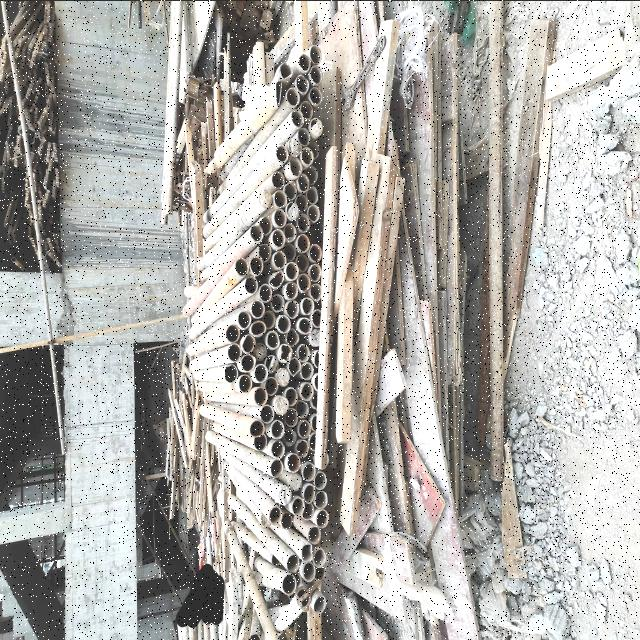pipe: (296, 586, 310, 609), (240, 334, 256, 354), (234, 256, 250, 276), (268, 268, 284, 288), (282, 572, 296, 594), (248, 256, 264, 275), (258, 188, 272, 209), (310, 116, 324, 137), (248, 224, 264, 242), (253, 363, 268, 382), (312, 594, 326, 614), (302, 562, 316, 582), (278, 486, 292, 506), (288, 472, 302, 492), (271, 439, 285, 459), (275, 395, 289, 415), (278, 342, 292, 362), (296, 272, 310, 292), (285, 260, 299, 280), (285, 201, 299, 221), (296, 212, 310, 232), (284, 180, 298, 200), (286, 86, 300, 106), (296, 74, 310, 94), (302, 462, 316, 481), (286, 453, 300, 472), (254, 387, 268, 406), (284, 408, 298, 427), (265, 354, 279, 373), (288, 356, 302, 375), (266, 330, 280, 349), (272, 250, 286, 269), (290, 109, 304, 128), (276, 367, 289, 387), (296, 399, 309, 419), (239, 374, 252, 394), (250, 320, 266, 336), (268, 506, 282, 524), (291, 497, 305, 515), (250, 419, 264, 437), (270, 420, 284, 438), (260, 404, 274, 422), (228, 343, 242, 361), (226, 324, 240, 342), (241, 353, 255, 371), (253, 342, 267, 360), (251, 300, 265, 318), (262, 310, 276, 328), (277, 314, 291, 332), (298, 316, 312, 334), (258, 284, 272, 302), (244, 275, 258, 293), (295, 254, 309, 272), (308, 263, 322, 281), (308, 244, 322, 262), (296, 233, 310, 251), (272, 230, 286, 248), (258, 216, 272, 234), (270, 170, 284, 188), (275, 144, 289, 162), (288, 138, 302, 156), (315, 489, 328, 508), (296, 439, 309, 458), (265, 376, 278, 395), (310, 65, 323, 84), (288, 553, 300, 573), (314, 548, 326, 568), (302, 542, 314, 562), (316, 508, 328, 528), (304, 483, 316, 503), (284, 427, 296, 447), (299, 418, 311, 438), (286, 386, 298, 406), (225, 362, 237, 382), (298, 342, 310, 362), (272, 292, 284, 312), (285, 280, 297, 300), (298, 172, 310, 192), (298, 52, 310, 72), (310, 44, 322, 64), (314, 472, 328, 489), (300, 362, 314, 379), (308, 526, 321, 544), (286, 300, 299, 318), (301, 297, 314, 315), (258, 243, 271, 261), (274, 190, 287, 208), (305, 165, 318, 183), (274, 208, 286, 227), (296, 193, 308, 212), (253, 434, 267, 450), (279, 62, 293, 78), (302, 502, 314, 520), (270, 459, 282, 477), (238, 310, 250, 328), (284, 223, 296, 241), (308, 204, 320, 222), (290, 157, 302, 175), (298, 128, 310, 146), (300, 100, 312, 118), (310, 86, 322, 104), (274, 80, 282, 106), (300, 382, 312, 399), (284, 243, 296, 260), (306, 186, 318, 203), (310, 283, 321, 301), (281, 512, 293, 528), (302, 148, 314, 164), (310, 328, 320, 346), (309, 140, 319, 158), (308, 432, 316, 451), (310, 392, 318, 410), (261, 514, 271, 528), (315, 566, 325, 580), (314, 350, 320, 370), (272, 552, 280, 566), (248, 632, 262, 640), (311, 414, 317, 431), (313, 375, 319, 390)
